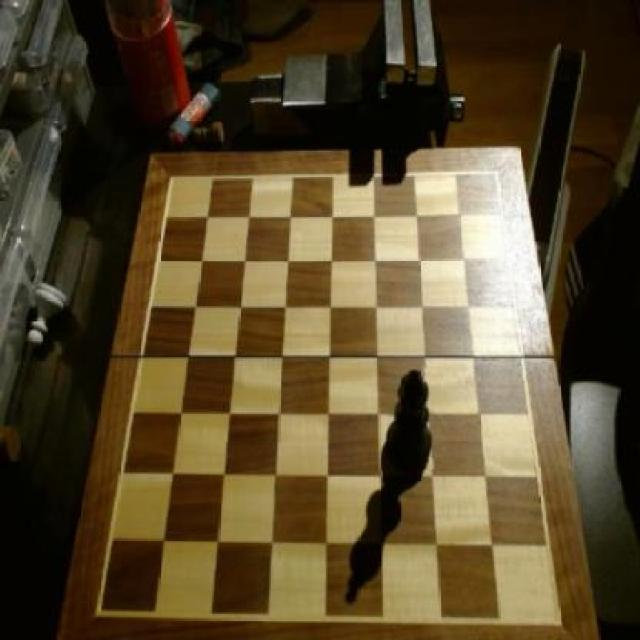black-bishop: (390, 369, 436, 472)
